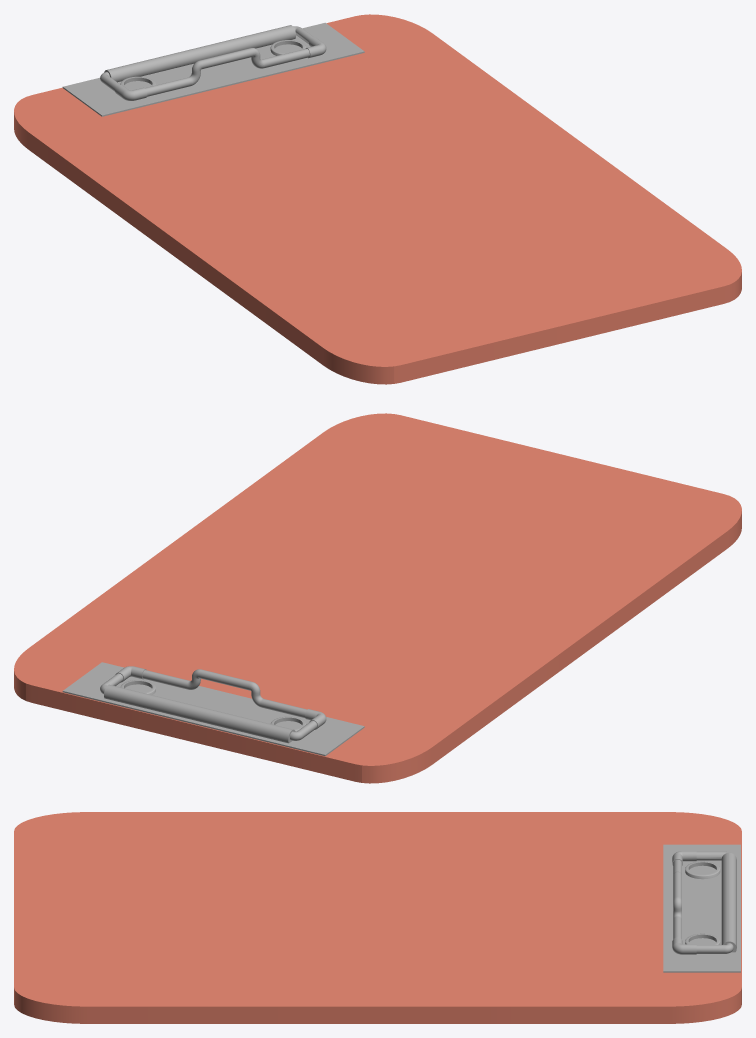
File: clipboard_model.fbx
3 views of the same model, one above another, from view 1: azimuth 30°, elevation 25°; view 2: azimuth 150°, elevation 25°; view 3: azimuth 270°, elevation 25° (orthographic).
Parts seen in each view (by area): view 1: board, base, corner_bumper; view 2: board, base, corner_bumper; view 3: board, base, corner_bumper.
Part boxes in pixels (<box>): board: <box>14,14,741,384</box>; base: <box>62,22,364,116</box>; corner_bumper: <box>100,26,326,100</box>; board: <box>14,413,741,783</box>; base: <box>62,662,364,756</box>; corner_bumper: <box>100,666,326,740</box>; board: <box>14,812,741,1023</box>; base: <box>663,844,740,972</box>; corner_bumper: <box>672,851,733,954</box>.
Bounding box in the file's own units: 325 × 32.58 × 513.
1 material, 1 textured.
